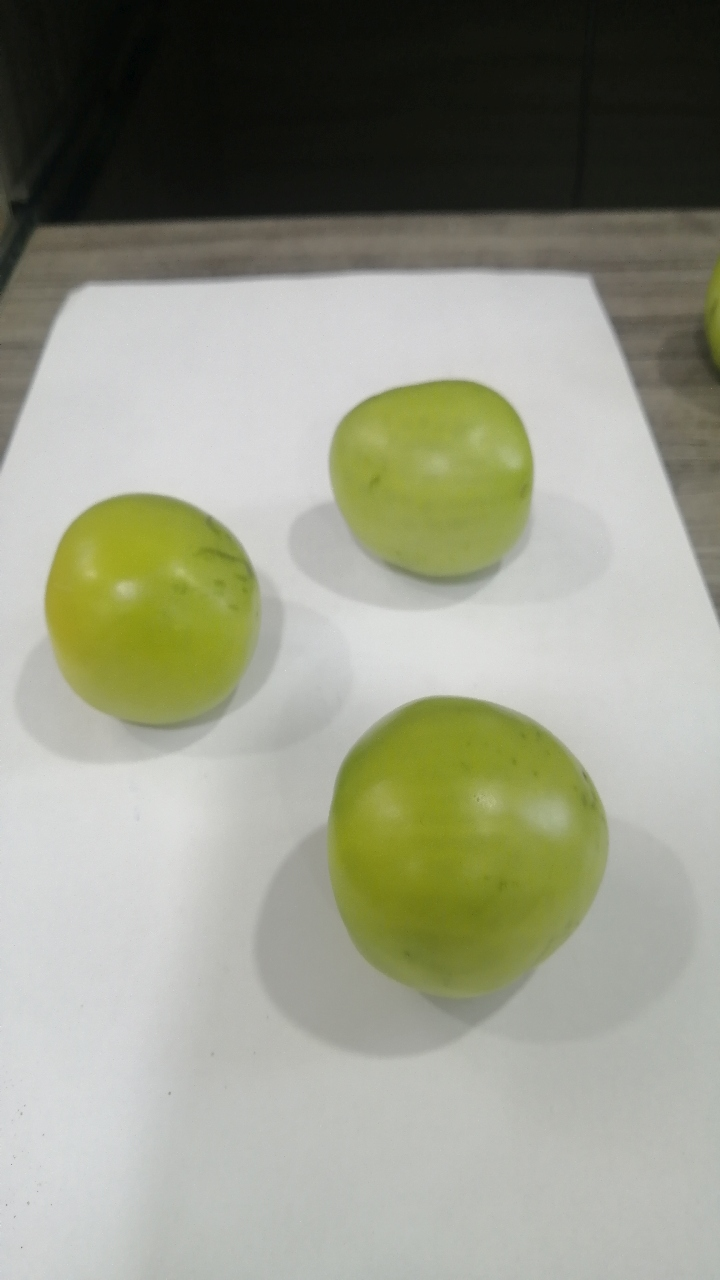tomateVerde: (300, 679, 621, 1006), (34, 480, 277, 749), (311, 348, 544, 615)
